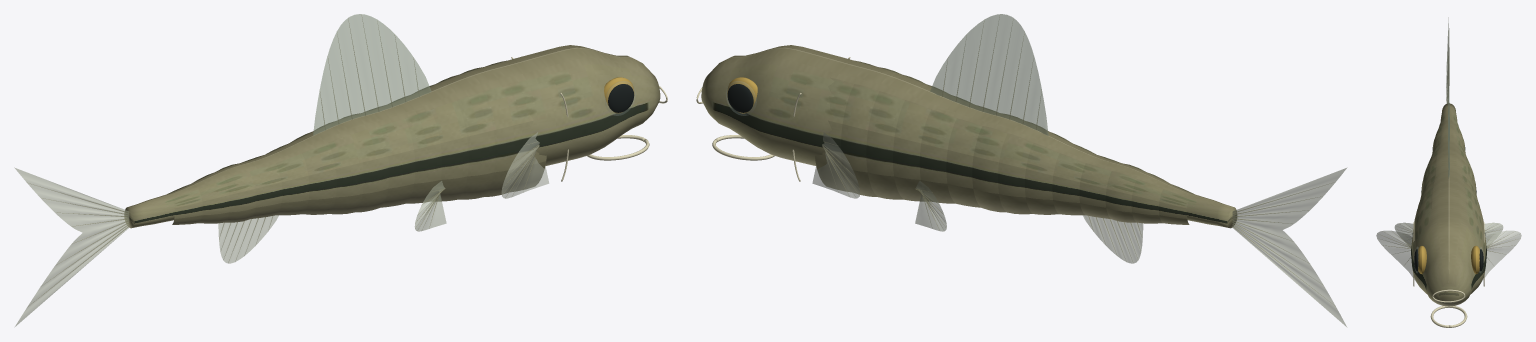
File: oto-mobile.glb
The picture shows the model from 3 angles, left to right: view 1: azimuth 30°, elevation 25°; view 2: azimuth 150°, elevation 25°; view 3: azimuth 270°, elevation 25°; orthographic projection. The views are drawn at different scales.
Parts seen in each view (by area): view 1: skin, dorsal, tail, dorsal-ray, anal, pectoral-left, pelvic-left, eye-pupil--1, operculum; view 2: skin, dorsal, tail, dorsal-ray, anal, pectoral-left, pelvic-left, eye-pupil--1, operculum; view 3: skin, pectoral-left, pelvic-left, operculum, eye-iris--1, tail, dorsal-ray, eye-pupil--1, dorsal.
Boxes of the visible parts, <box> form: skin: <box>124,45,660,228</box>; dorsal: <box>313,14,431,135</box>; tail: <box>14,167,129,326</box>; dorsal-ray: <box>28,15,539,306</box>; anal: <box>218,215,278,263</box>; pectoral-left: <box>501,132,548,198</box>; pelvic-left: <box>414,181,446,231</box>; eye-pupil--1: <box>608,84,634,112</box>; operculum: <box>511,57,667,181</box>; skin: <box>701,45,1236,228</box>; dorsal: <box>930,14,1048,135</box>; tail: <box>1232,168,1346,326</box>; dorsal-ray: <box>822,21,1334,305</box>; anal: <box>1083,215,1143,263</box>; pectoral-left: <box>812,132,859,198</box>; pelvic-left: <box>915,181,946,231</box>; eye-pupil--1: <box>727,84,753,112</box>; operculum: <box>696,57,850,181</box>; skin: <box>1411,103,1486,306</box>; pectoral-left: <box>1376,230,1521,282</box>; pelvic-left: <box>1394,222,1503,245</box>; operculum: <box>1413,222,1484,327</box>; eye-iris--1: <box>1418,246,1479,273</box>; tail: <box>1446,17,1449,103</box>; dorsal-ray: <box>1382,73,1515,261</box>; eye-pupil--1: <box>1414,249,1483,271</box>; dorsal: <box>1448,87,1449,178</box>.
Size of the model in its own units: 0.6032 by 0.2064 by 0.1646.
11 materials, 1 textured.
